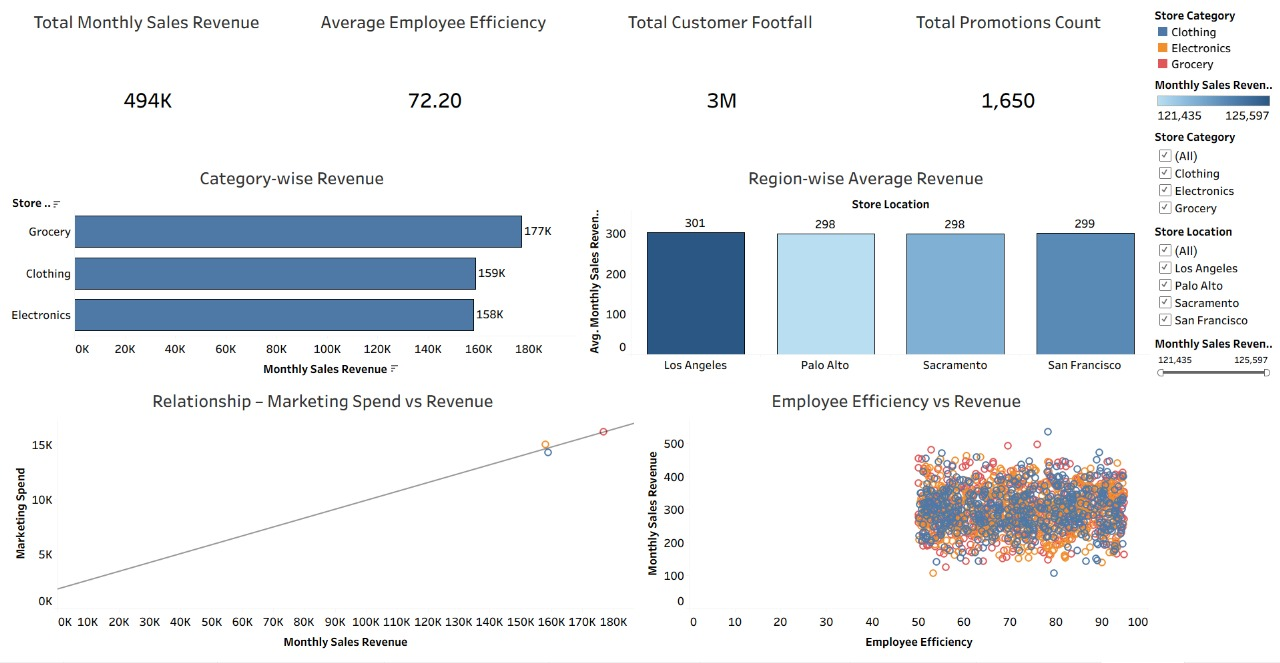

What the dashboard file says about the page in this screenshot:
{"tool":"tableau","page":{"name":"Dashboard 1","canvas":[1000,1000],"units":"permille","ordinal":0},"visuals":[{"type":"worksheet","title":"Total Monthly Sales Revenue ","mark":"Automatic","box":[4.8,10,223.5,234.6]},{"type":"worksheet","title":"Average Employee Efficiency ","mark":"Automatic","box":[228.3,10,223.6,234.6]},{"type":"worksheet","title":"Total Customer Footfall ","mark":"Automatic","box":[451.9,10,223.6,234.6]},{"type":"worksheet","title":"Total Promotions Count","mark":"Automatic","box":[675.5,10,223.6,234.6]},{"type":"legend","title":" Relationship – Marketing Spend vs Revenue","param":"[federated.1dta5cs0skkpe215ati2n0zsksy5].[none:StoreCategory:nk]","box":[899.1,10,96.1,129.8]},{"type":"legend","title":"Region-wise Average Revenue","param":"[federated.1dta5cs0skkpe215ati2n0zsksy5].[sum:MonthlySalesRevenue:qk]","box":[899.1,139.8,96.1,97.4]},{"type":"filter","title":"Category-wise Revenue","param":"[federated.1dta5cs0skkpe215ati2n0zsksy5].[none:StoreCategory:nk]","box":[899.1,237.2,96.1,177.3]},{"type":"worksheet","title":"Category-wise Revenue","mark":"Automatic","rows":["StoreCategory"],"cols":["MonthlySalesRevenue"],"box":[4.8,244.6,447.1,334.7]},{"type":"worksheet","title":"Region-wise Average Revenue","mark":"Automatic","rows":["MonthlySalesRevenue"],"cols":["StoreLocation"],"box":[451.9,244.6,447.2,334.7]},{"type":"filter","title":"Region-wise Average Revenue","param":"[federated.1dta5cs0skkpe215ati2n0zsksy5].[none:StoreLocation:nk]","box":[899.1,414.5,96.1,209.7]},{"type":"worksheet","title":" Relationship – Marketing Spend vs Revenue","mark":"Automatic","rows":["MarketingSpend"],"cols":["MonthlySalesRevenue"],"box":[4.8,579.3,492.6,410.7]},{"type":"worksheet","title":" Employee Efficiency vs Revenue","mark":"Automatic","rows":["MonthlySalesRevenue"],"cols":["EmployeeEfficiency"],"box":[497.4,579.3,401.7,410.7]},{"type":"filter","title":"Region-wise Average Revenue","param":"[federated.1dta5cs0skkpe215ati2n0zsksy5].[sum:MonthlySalesRevenue:qk]","box":[899.1,624.2,96.1,93.6]}]}

Visuals, with their boxes on the dashboard's canvas, which has no fixed pixel size, in thousandths of its width and height (x1, y1, x2, y2). These are canvas units, not pixel positions in the 1280x663 screenshot, which may show the page scaled, cropped or inside an application window:
"Total Monthly Sales Revenue " worksheet: 5, 10, 228, 245
"Average Employee Efficiency " worksheet: 228, 10, 452, 245
"Total Customer Footfall " worksheet: 452, 10, 676, 245
"Total Promotions Count" worksheet: 676, 10, 899, 245
" Relationship – Marketing Spend vs Revenue" legend: 899, 10, 995, 140
"Region-wise Average Revenue" legend: 899, 140, 995, 237
"Category-wise Revenue" filter: 899, 237, 995, 414
"Category-wise Revenue" worksheet: 5, 245, 452, 579
"Region-wise Average Revenue" worksheet: 452, 245, 899, 579
"Region-wise Average Revenue" filter: 899, 414, 995, 624
" Relationship – Marketing Spend vs Revenue" worksheet: 5, 579, 497, 990
" Employee Efficiency vs Revenue" worksheet: 497, 579, 899, 990
"Region-wise Average Revenue" filter: 899, 624, 995, 718
